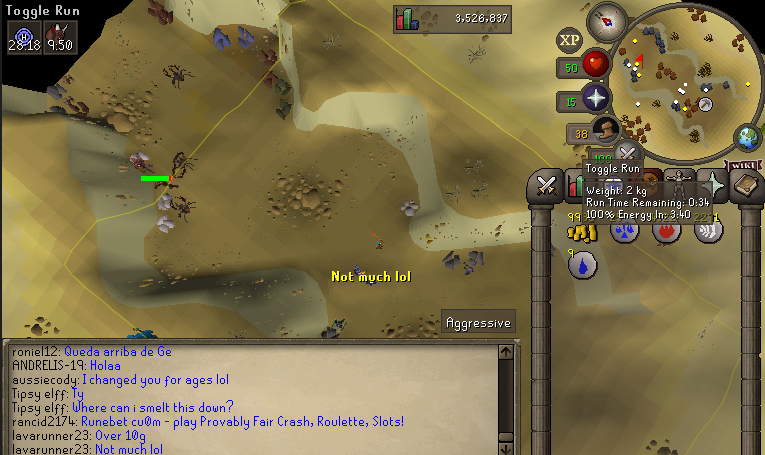depleted: (42, 100, 71, 121), (467, 246, 489, 272), (442, 248, 464, 273), (45, 79, 70, 101)
iron: (69, 96, 94, 121), (259, 47, 279, 68), (259, 68, 278, 87), (156, 10, 175, 26), (148, 1, 164, 15)
